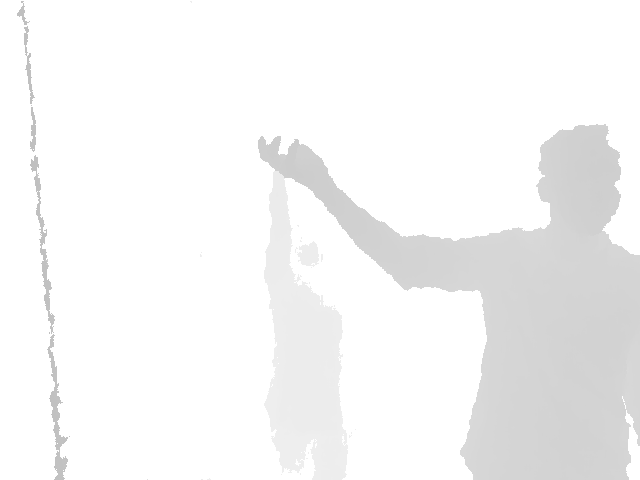hand: (257, 134, 329, 198)
head: (535, 122, 622, 234), (294, 239, 324, 268)
person: (258, 122, 640, 480), (261, 169, 350, 480)
